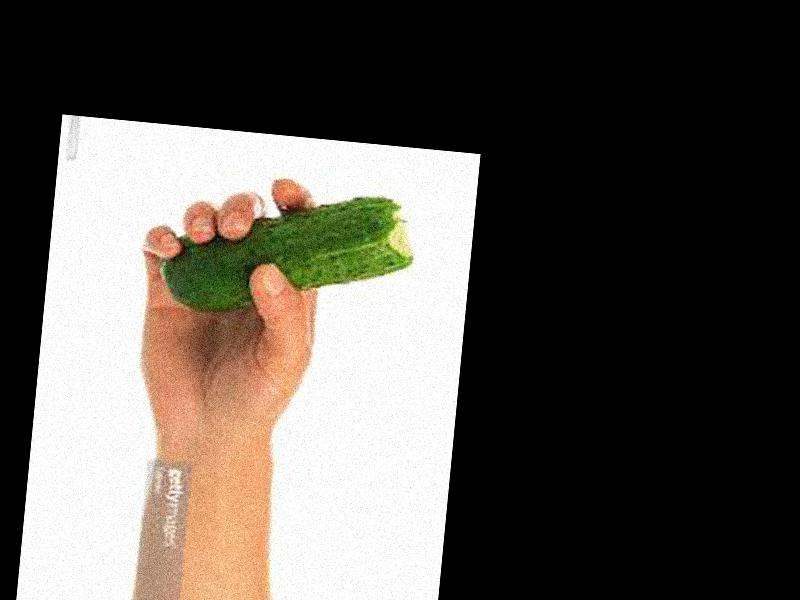Cucumber: (159, 178, 418, 329)
